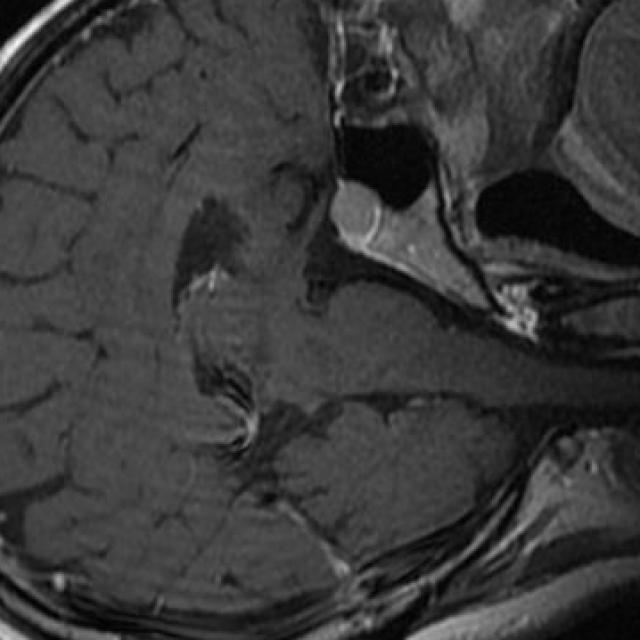pituitary: (333, 185, 380, 244)
